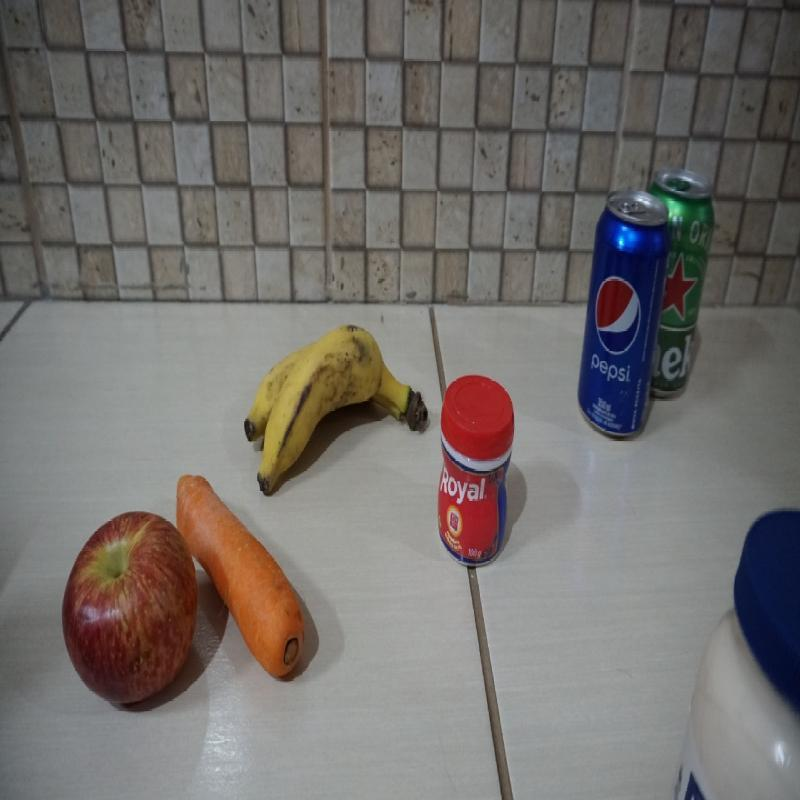Apple: (61, 512, 200, 708)
Banana: (243, 324, 429, 495)
Beer can: (648, 167, 716, 406)
Carrot: (175, 474, 307, 683)
Mayonnaise: (672, 505, 800, 800)
Soda can: (576, 186, 671, 439)
Yeast: (437, 376, 516, 567)
